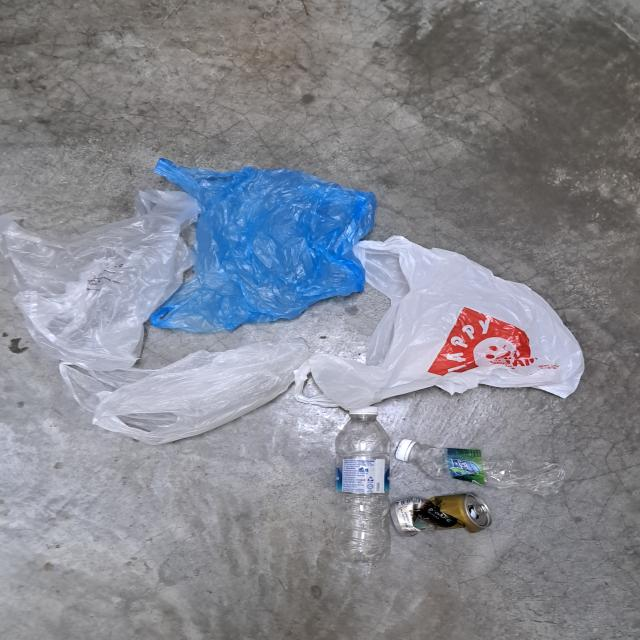can: (390, 492, 492, 538)
plastic bag: (296, 236, 586, 409), (147, 158, 376, 334), (0, 190, 209, 371), (59, 343, 310, 447)
plastic bottle: (411, 442, 565, 497), (335, 414, 392, 562)
plastic bottle cap: (395, 439, 419, 461), (349, 406, 377, 416)
pop tab: (473, 504, 488, 516)
